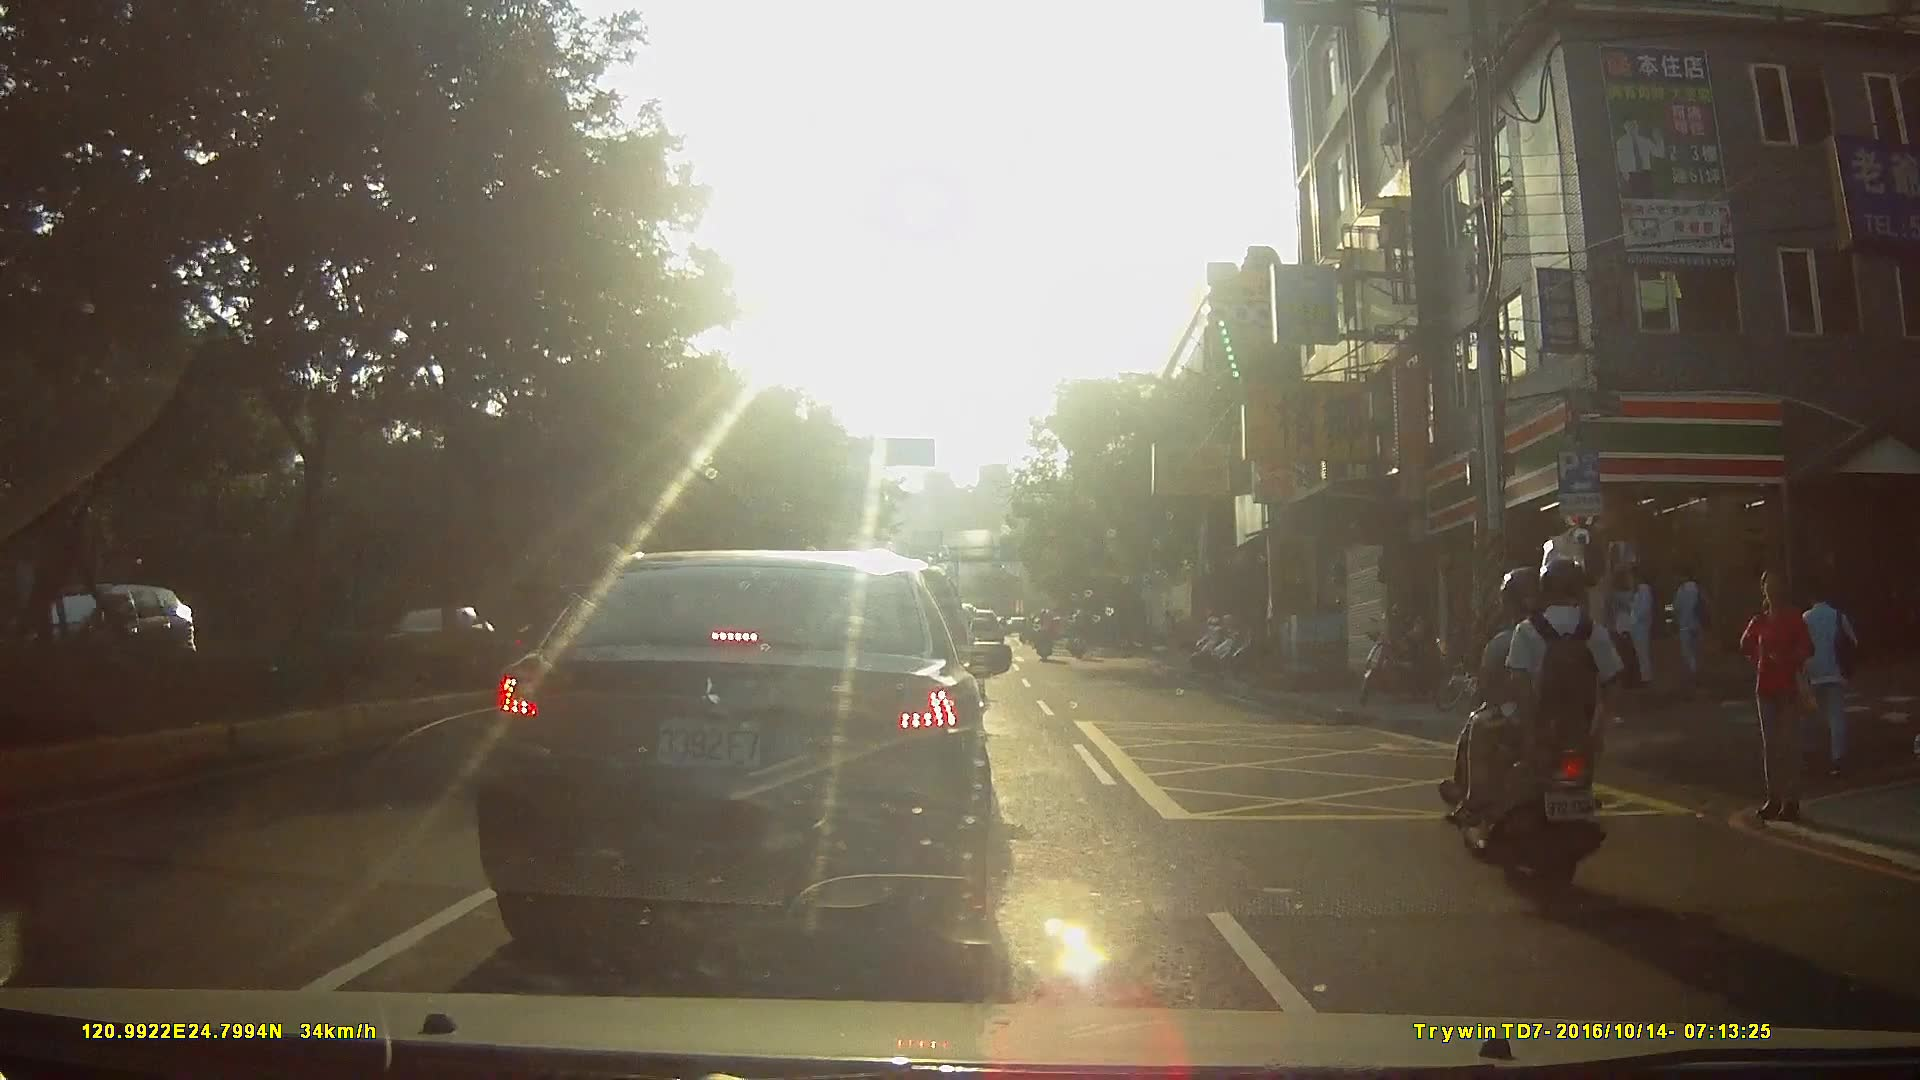pedestrian: (1741, 567, 1816, 819), (1674, 565, 1717, 679), (1605, 567, 1631, 697)
rider: (1447, 530, 1631, 898), (1037, 606, 1057, 664), (1066, 611, 1089, 662)
vehicle: (466, 537, 1043, 967), (41, 581, 203, 688)
